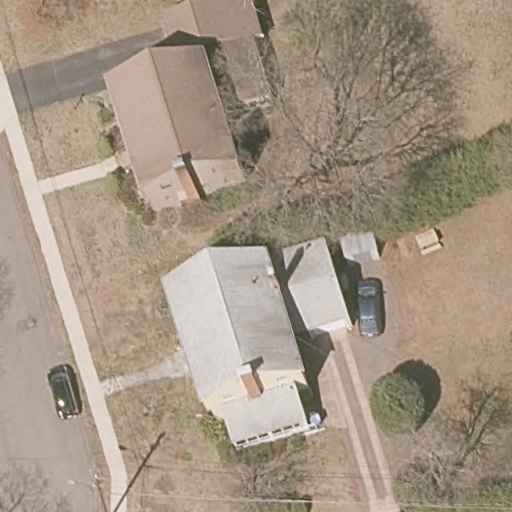DT: (67, 469, 109, 512)
